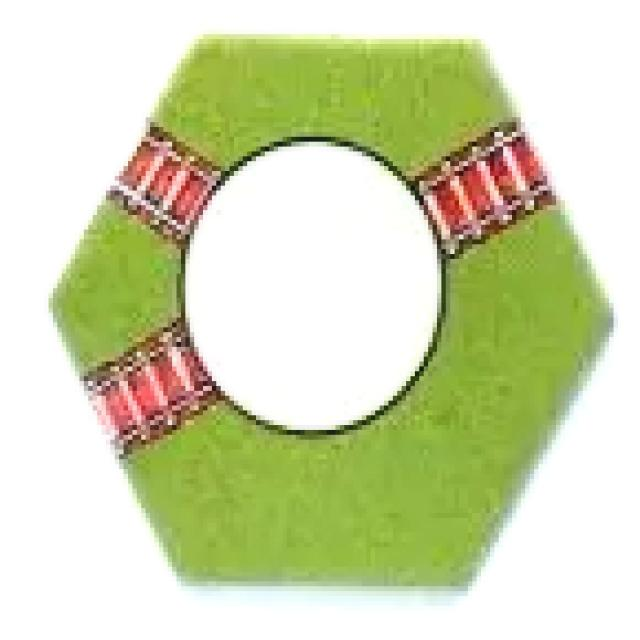10_0: (49, 40, 616, 590)
